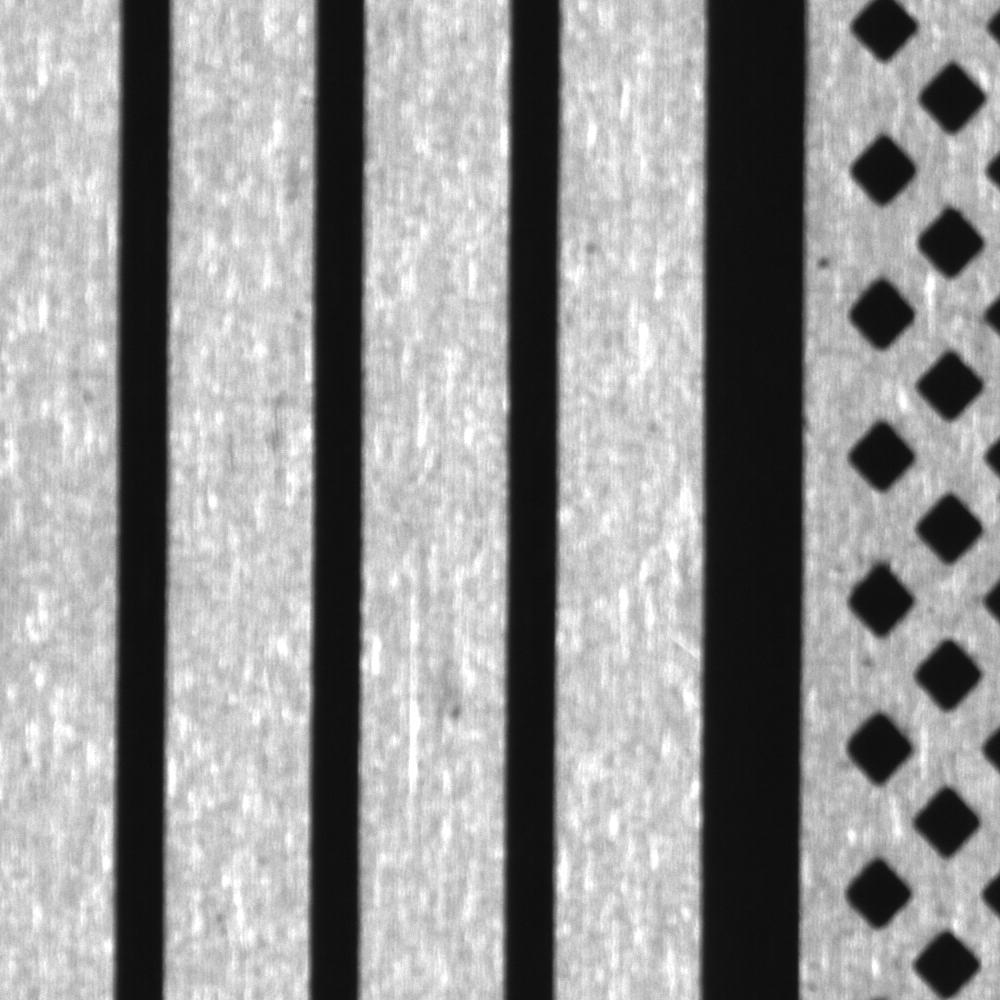Etching: (254, 376, 310, 484), (435, 690, 485, 735), (575, 224, 618, 271)
